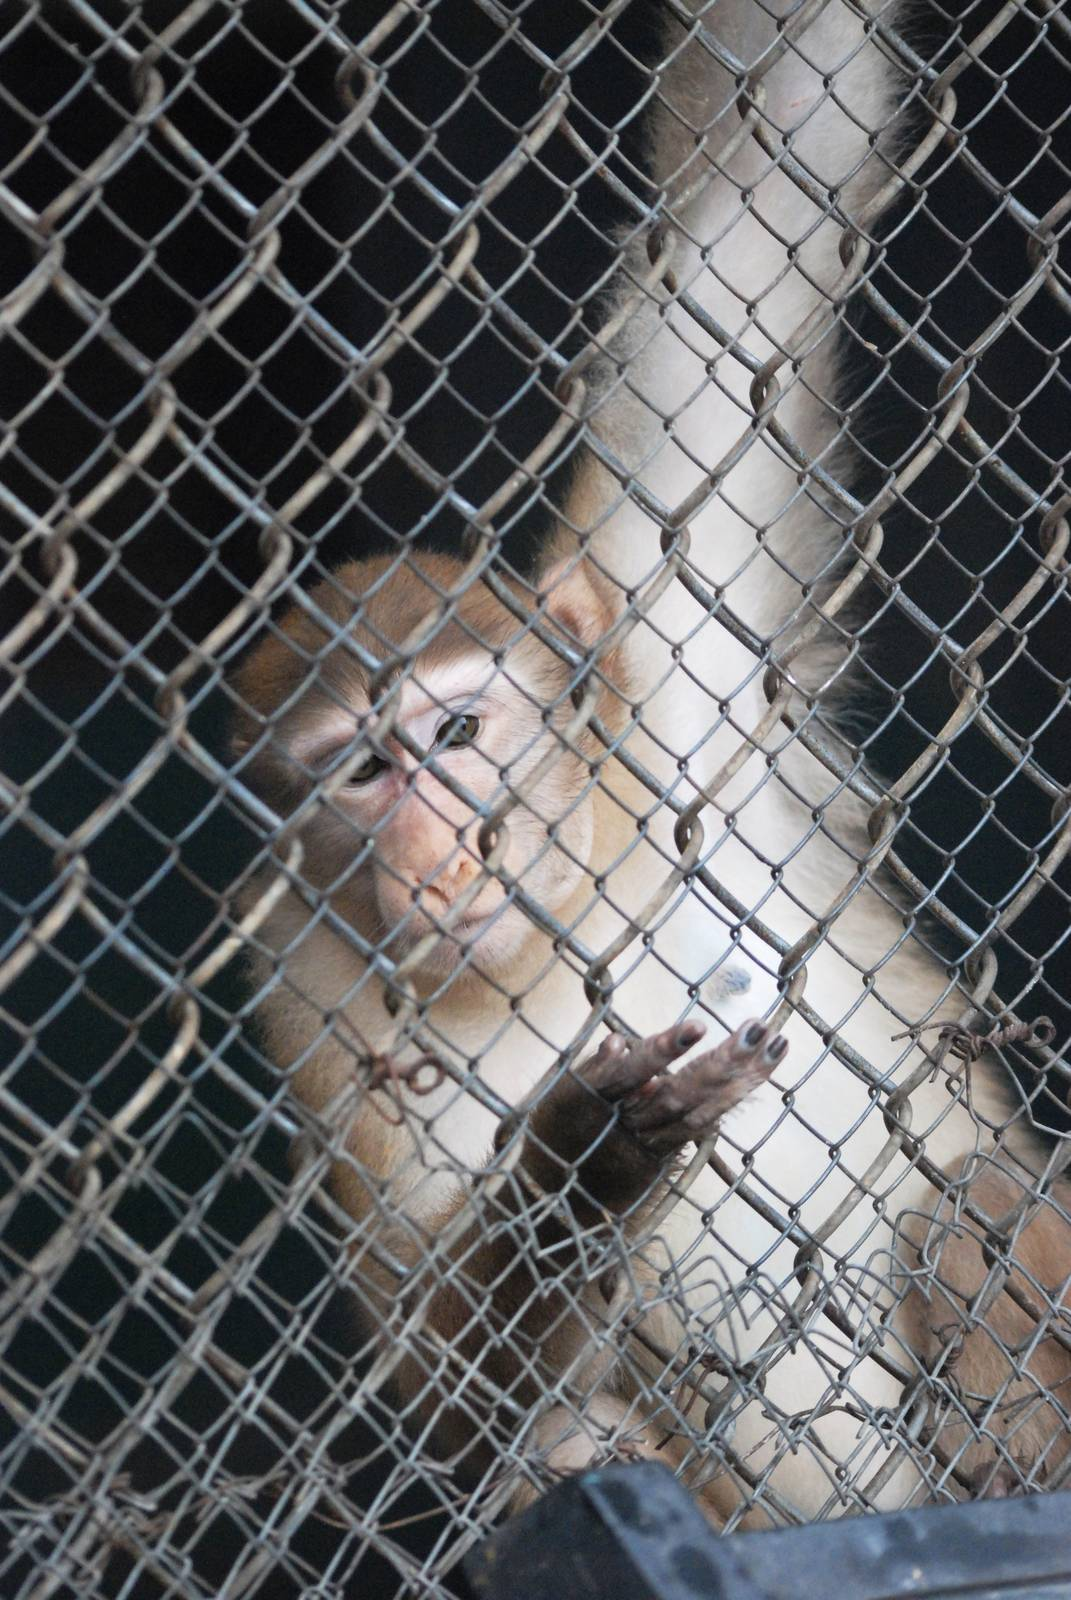monkey: (149, 1, 1071, 1546)
